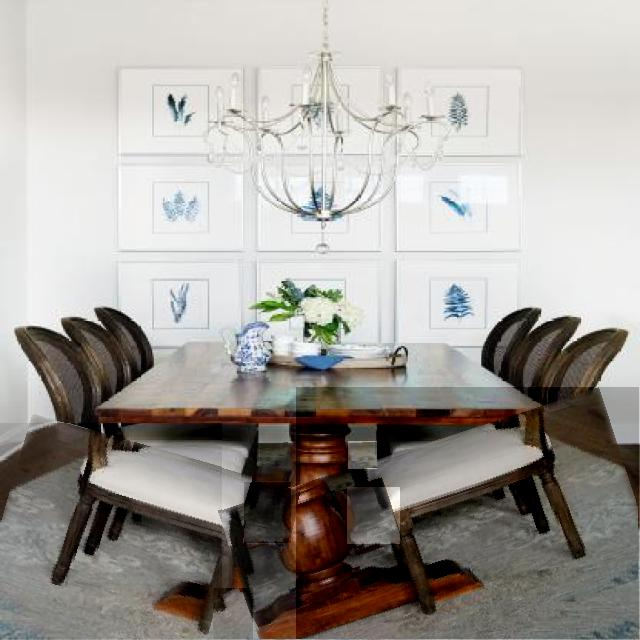floor: (297, 387, 639, 640), (0, 423, 222, 639), (348, 488, 400, 544), (244, 483, 291, 543), (214, 588, 253, 640), (349, 442, 377, 469), (261, 444, 288, 466)
